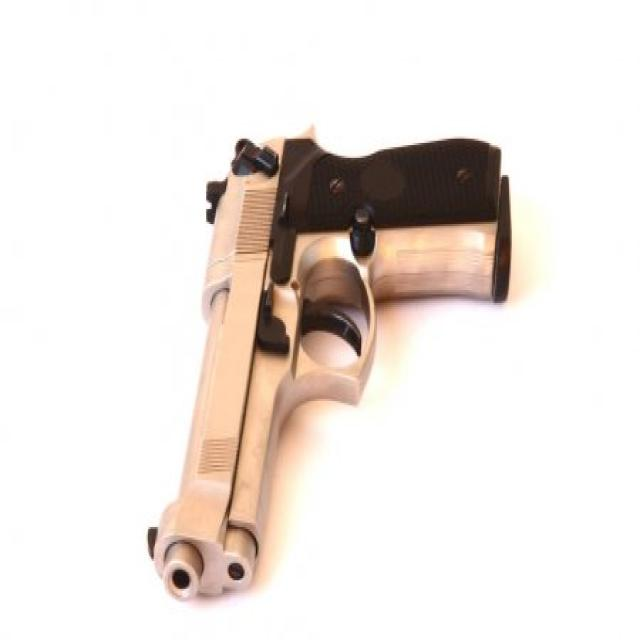pistol: (146, 114, 520, 614)
